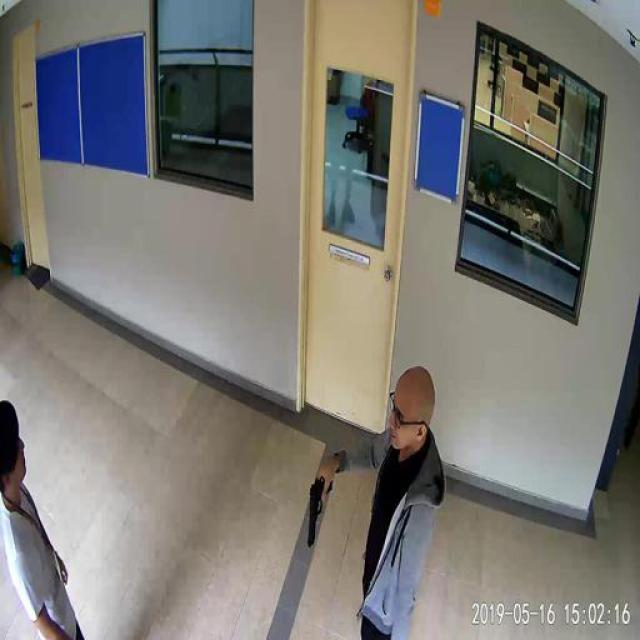weapon: (306, 474, 334, 548)
